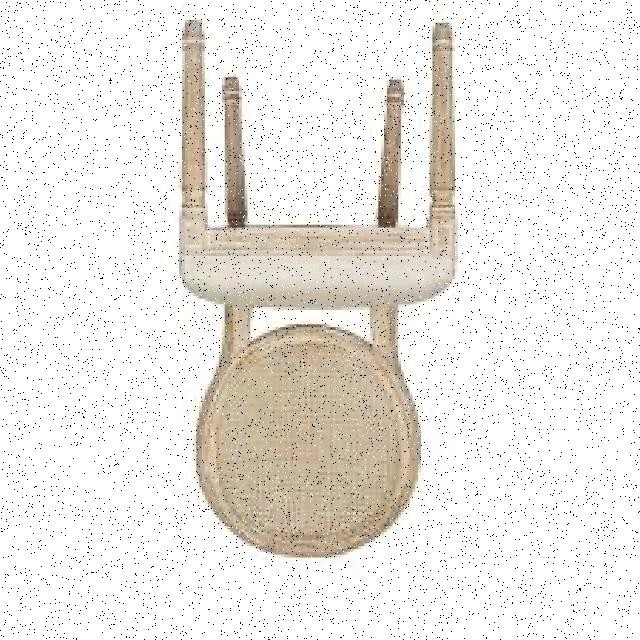bottle: (176, 19, 456, 568)
